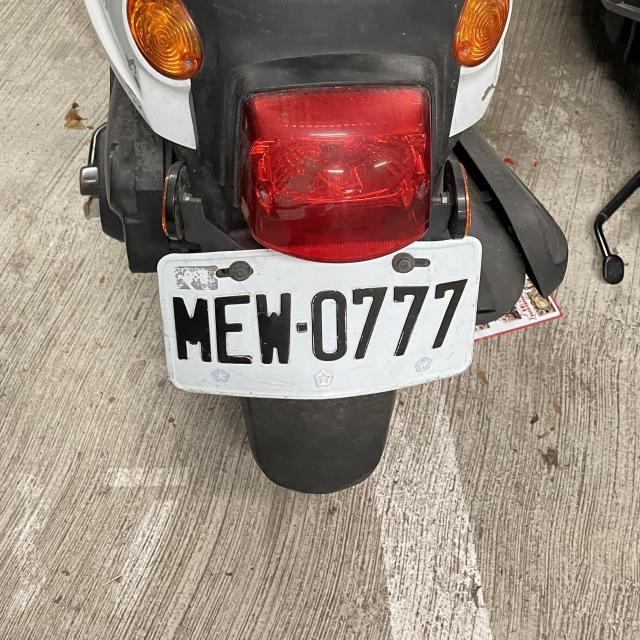W: (151, 239, 485, 402)
